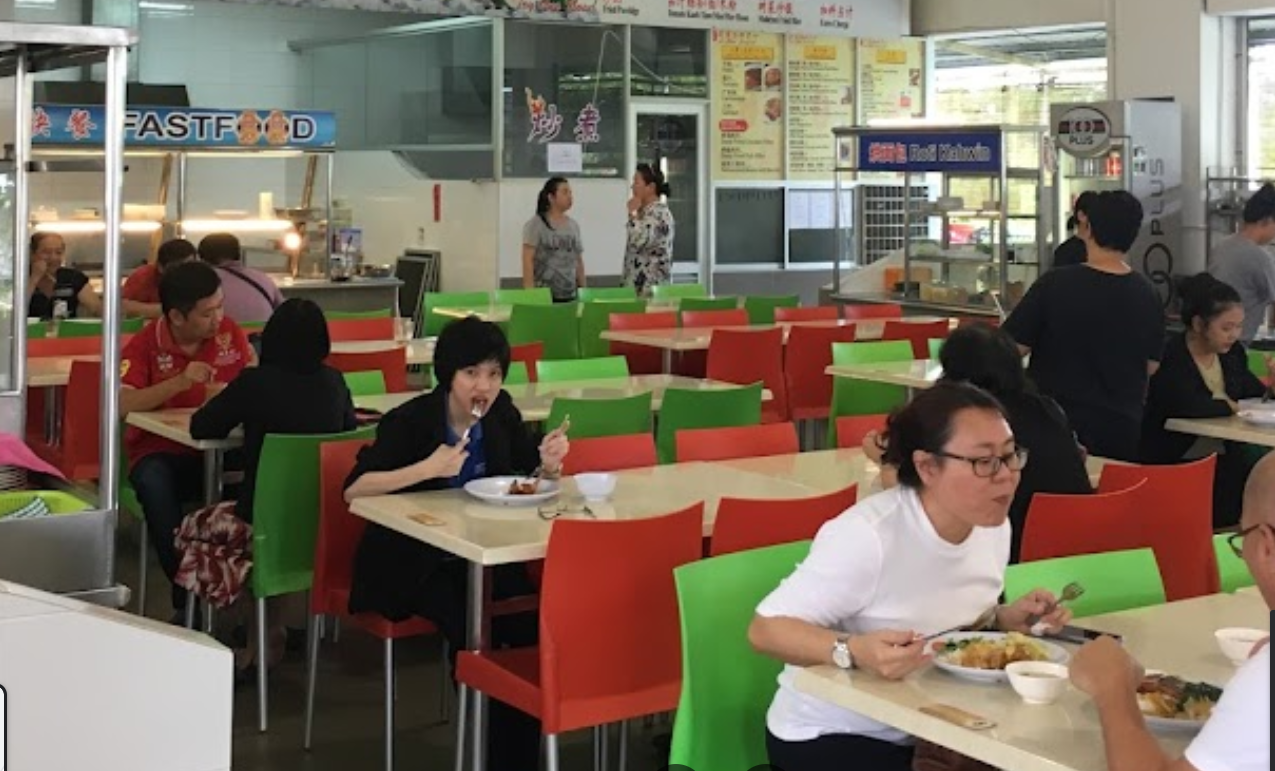sit: (760, 386, 1007, 747), (394, 308, 583, 635), (233, 287, 375, 603), (121, 241, 237, 504)
